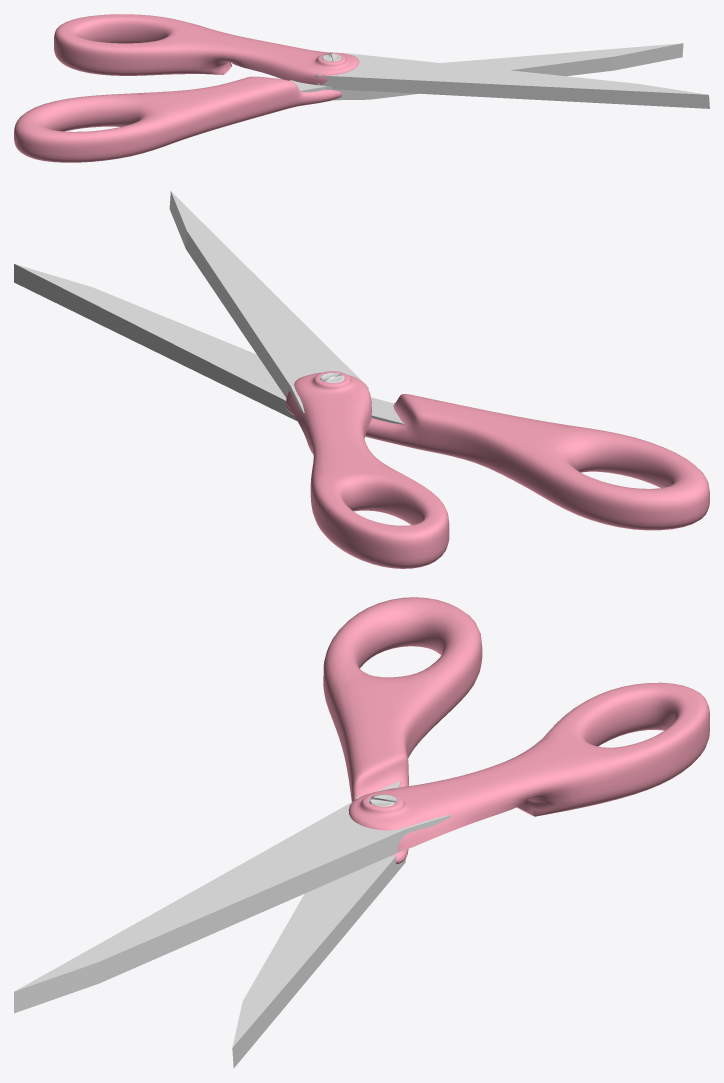
File: scissors.fbx
3 views of the same model, one above another, from view 1: azimuth 30°, elevation 25°; view 2: azimuth 150°, elevation 25°; view 3: azimuth 270°, elevation 25° (orthographic). The views are drawn at different scales.
Visible parts, largest first — view 1: Circle, Circle.001; view 2: Circle, Circle.001; view 3: Circle, Circle.001.
Boxes of the visible parts, x1=… form: Circle: x1=14, y1=14, x2=359, y2=162; Circle.001: x1=289, y1=43, x2=709, y2=108; Circle: x1=285, y1=371, x2=709, y2=568; Circle.001: x1=14, y1=191, x2=404, y2=424; Circle: x1=323, y1=597, x2=709, y2=863; Circle.001: x1=14, y1=780, x2=451, y2=1068.
Bounding box in the file's own units: 279 × 15.99 × 190.
